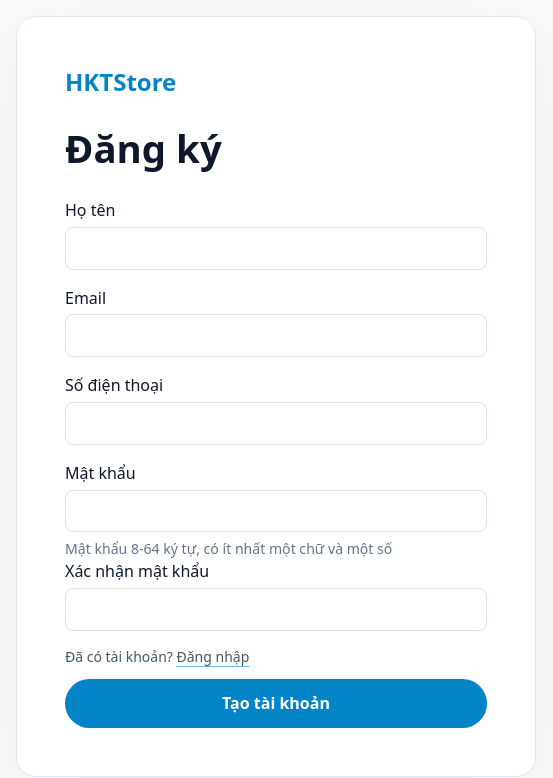
Test: Registration UX › rejects mismatched password confirmation before API submission
The image size is (553, 778).
Type "Khach hang" into the field labelled "Họ tên".
click(276, 248); type("Khach hang")  # box [65,227,487,270]
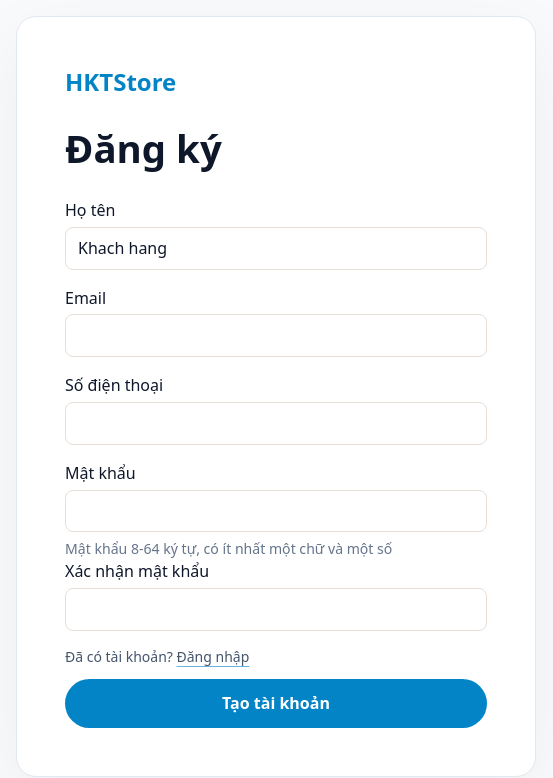
Type "C@Test.Local" into the field labelled "Email".
click(276, 336); type("C@Test.Local")  # box [65,314,487,357]
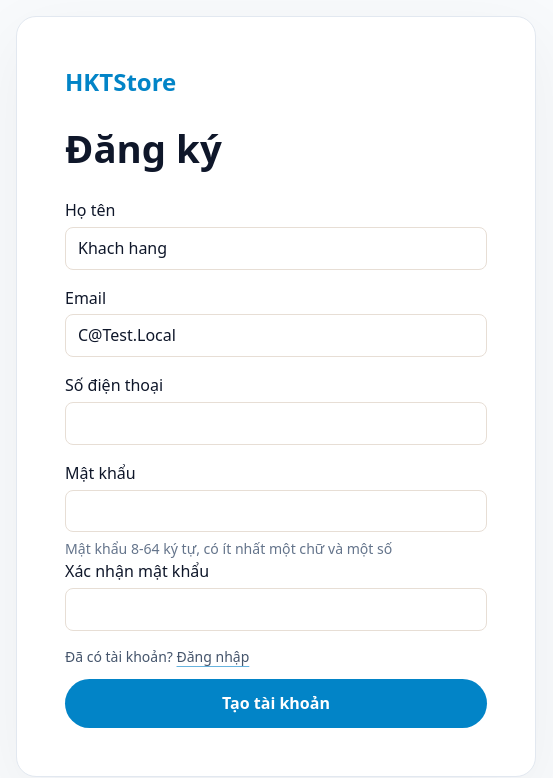
Type "0901234567" into the field labelled "Số điện thoại".
click(276, 423); type("0901234567")  # box [65,402,487,445]
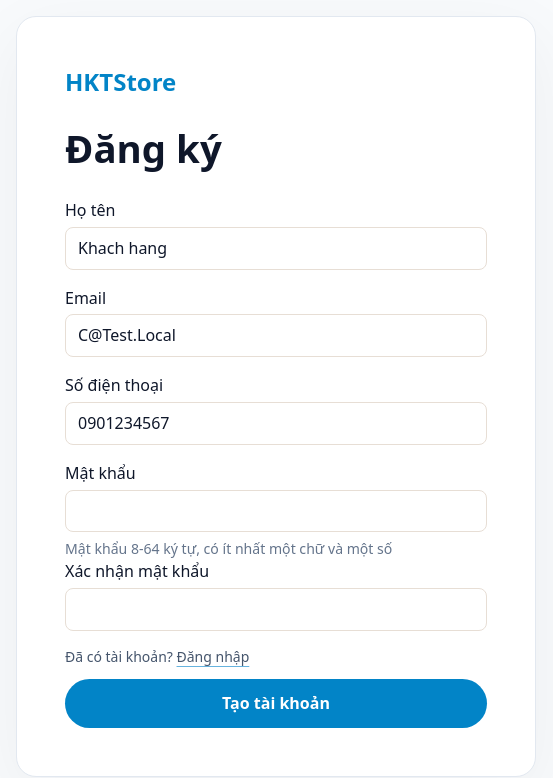
Type "Password123" into the password field labelled "Mật khẩu".
click(276, 511); type("Password123")  # box [65,490,487,532]
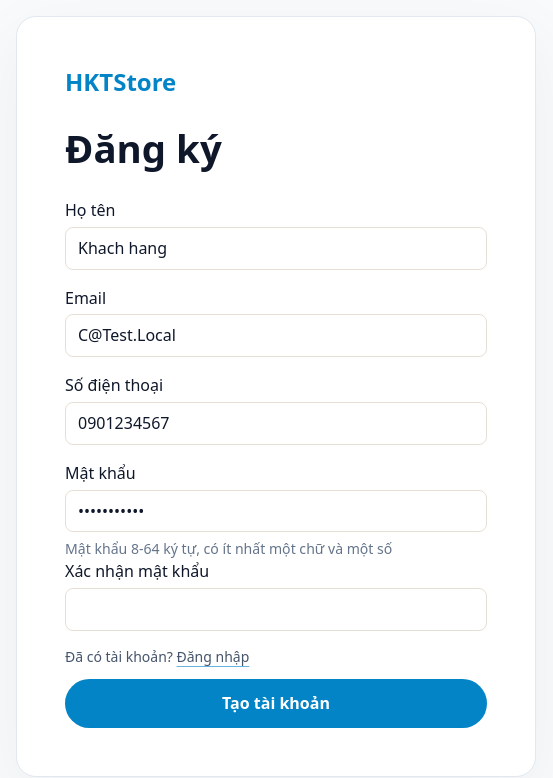
Type "Mismatch123" into the password field labelled "Xác nhận mật khẩu".
click(276, 609); type("Mismatch123")  # box [65,588,487,631]
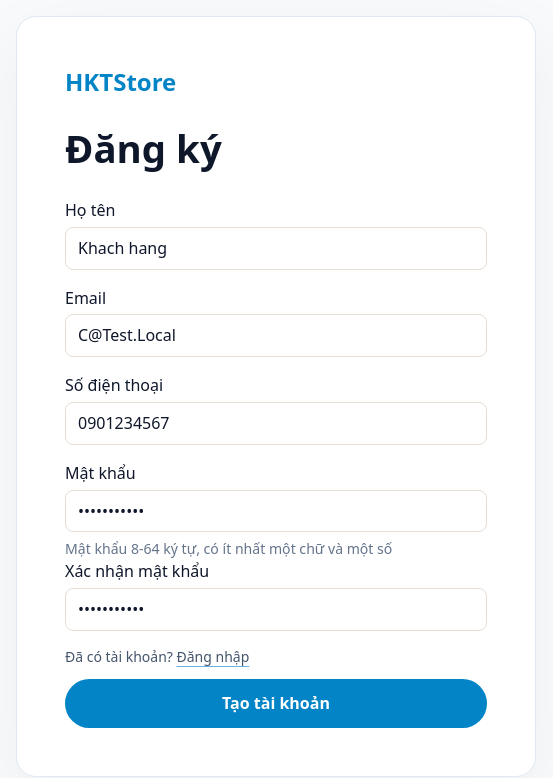
Click the button "Tạo tài khoản".
click(276, 704)  # box [65,679,487,728]
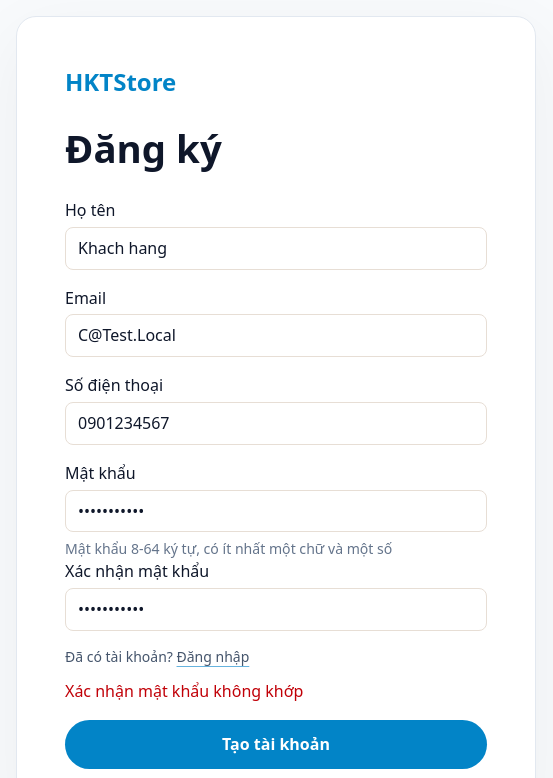
Expected: the message reads "Xác nhận mật khẩu không khớp", [65,680,304,702]
